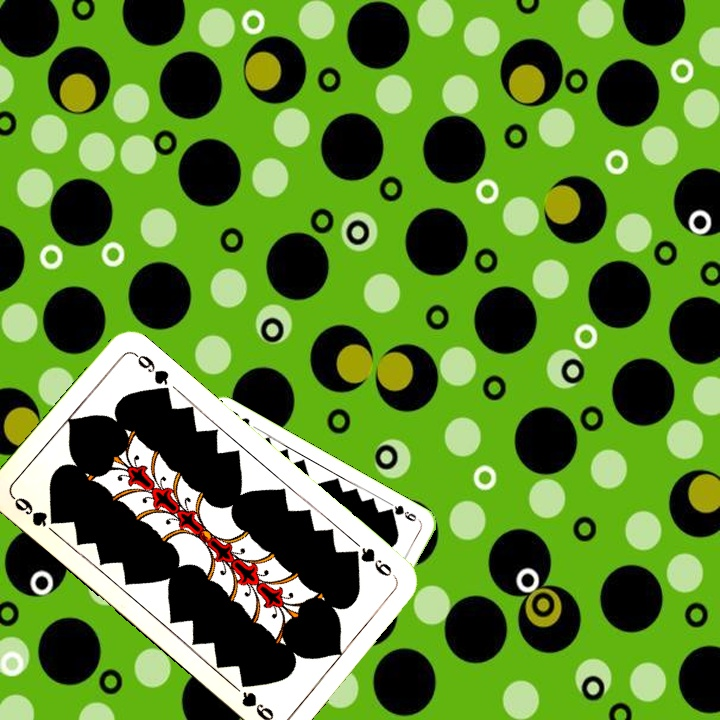G9: (345, 543, 399, 582), (8, 492, 63, 530), (383, 501, 423, 525)
